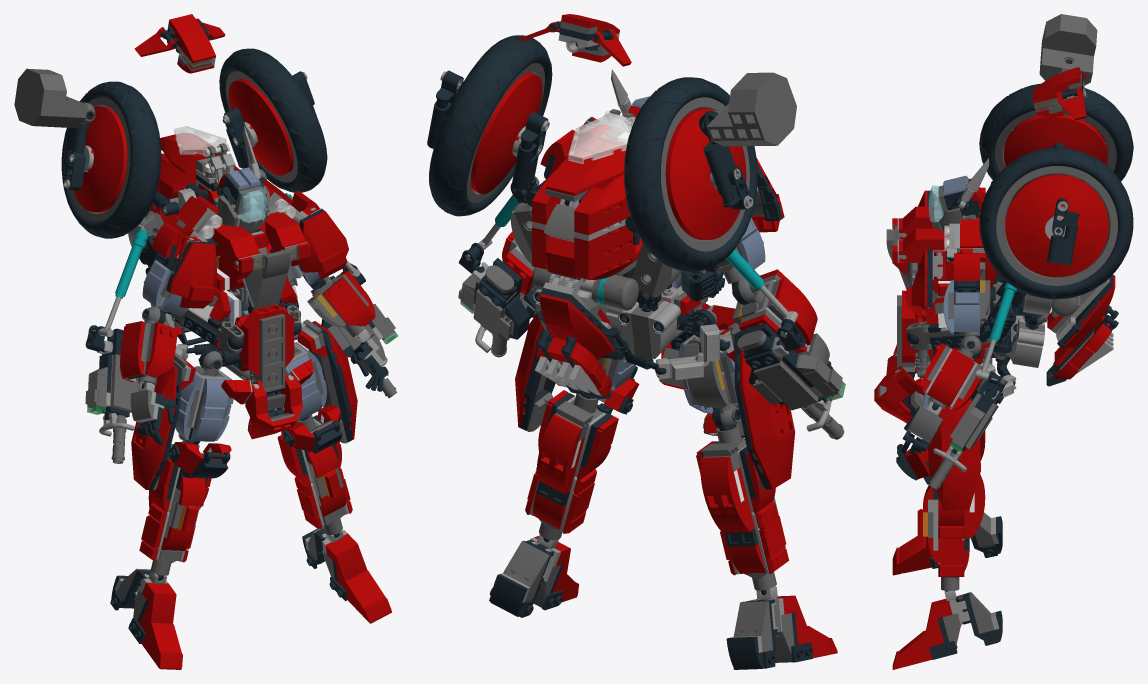
Rendered from vrs-077f-intruder-gate-armor.dae.
3 renders of one model, left to right at view 1: azimuth 30°, elevation 25°; view 2: azimuth 150°, elevation 25°; view 3: azimuth 270°, elevation 25°, orthographic. The views are drawn at different scales.
Size of the model in its own units: 552 by 399 by 932.
